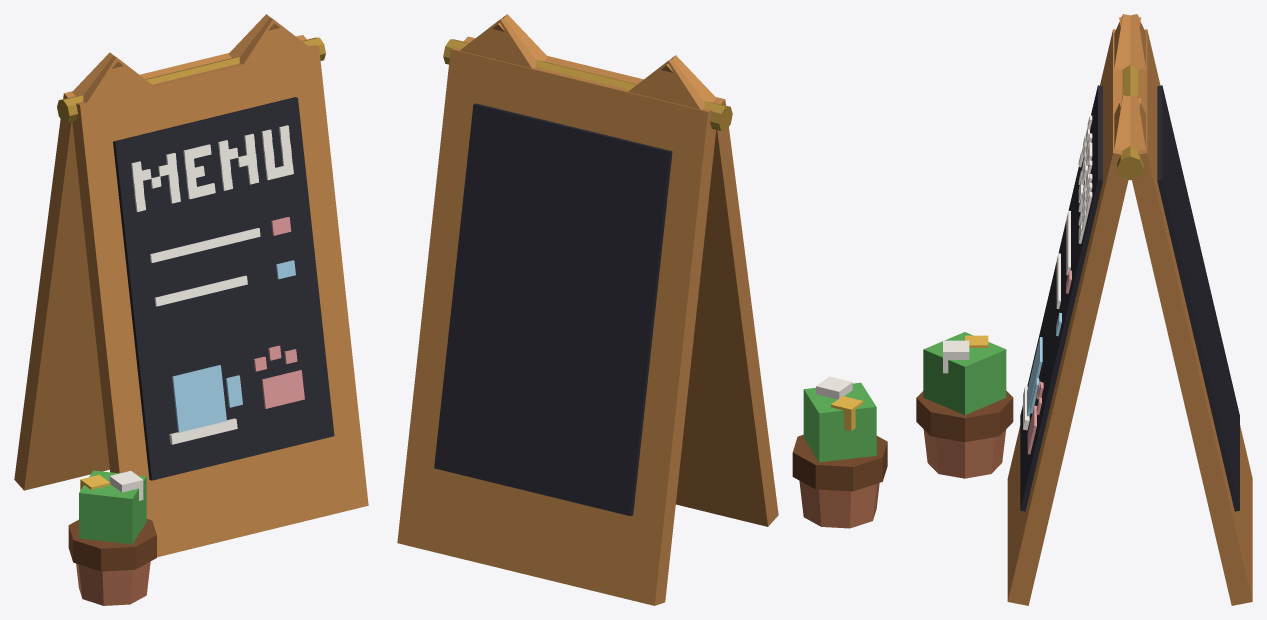
File: CatCafe_Lawn_SandwichBoard.glb
3 renders of one model, left to right at view 1: azimuth 30°, elevation 25°; view 2: azimuth 150°, elevation 25°; view 3: azimuth 270°, elevation 25°, orthographic. The views are drawn at different scales.
Parts seen in each view (by area): view 1: CatCafe_Lawn_SandwichBoard, CatCafe_Lawn_SandwichBoard_Chalk; view 2: CatCafe_Lawn_SandwichBoard; view 3: CatCafe_Lawn_SandwichBoard, CatCafe_Lawn_SandwichBoard_Chalk.
Boxes of the visible parts, x1,y1,x2,y2 form: CatCafe_Lawn_SandwichBoard: (14,14,368,605); CatCafe_Lawn_SandwichBoard_Chalk: (113,97,334,480); CatCafe_Lawn_SandwichBoard: (397,14,887,605); CatCafe_Lawn_SandwichBoard: (916,14,1252,605); CatCafe_Lawn_SandwichBoard_Chalk: (1020,85,1102,511).
Size of the model in its own units: 1.49 by 2.03 by 1.26.
Materials: 1 (1 with a texture image).
